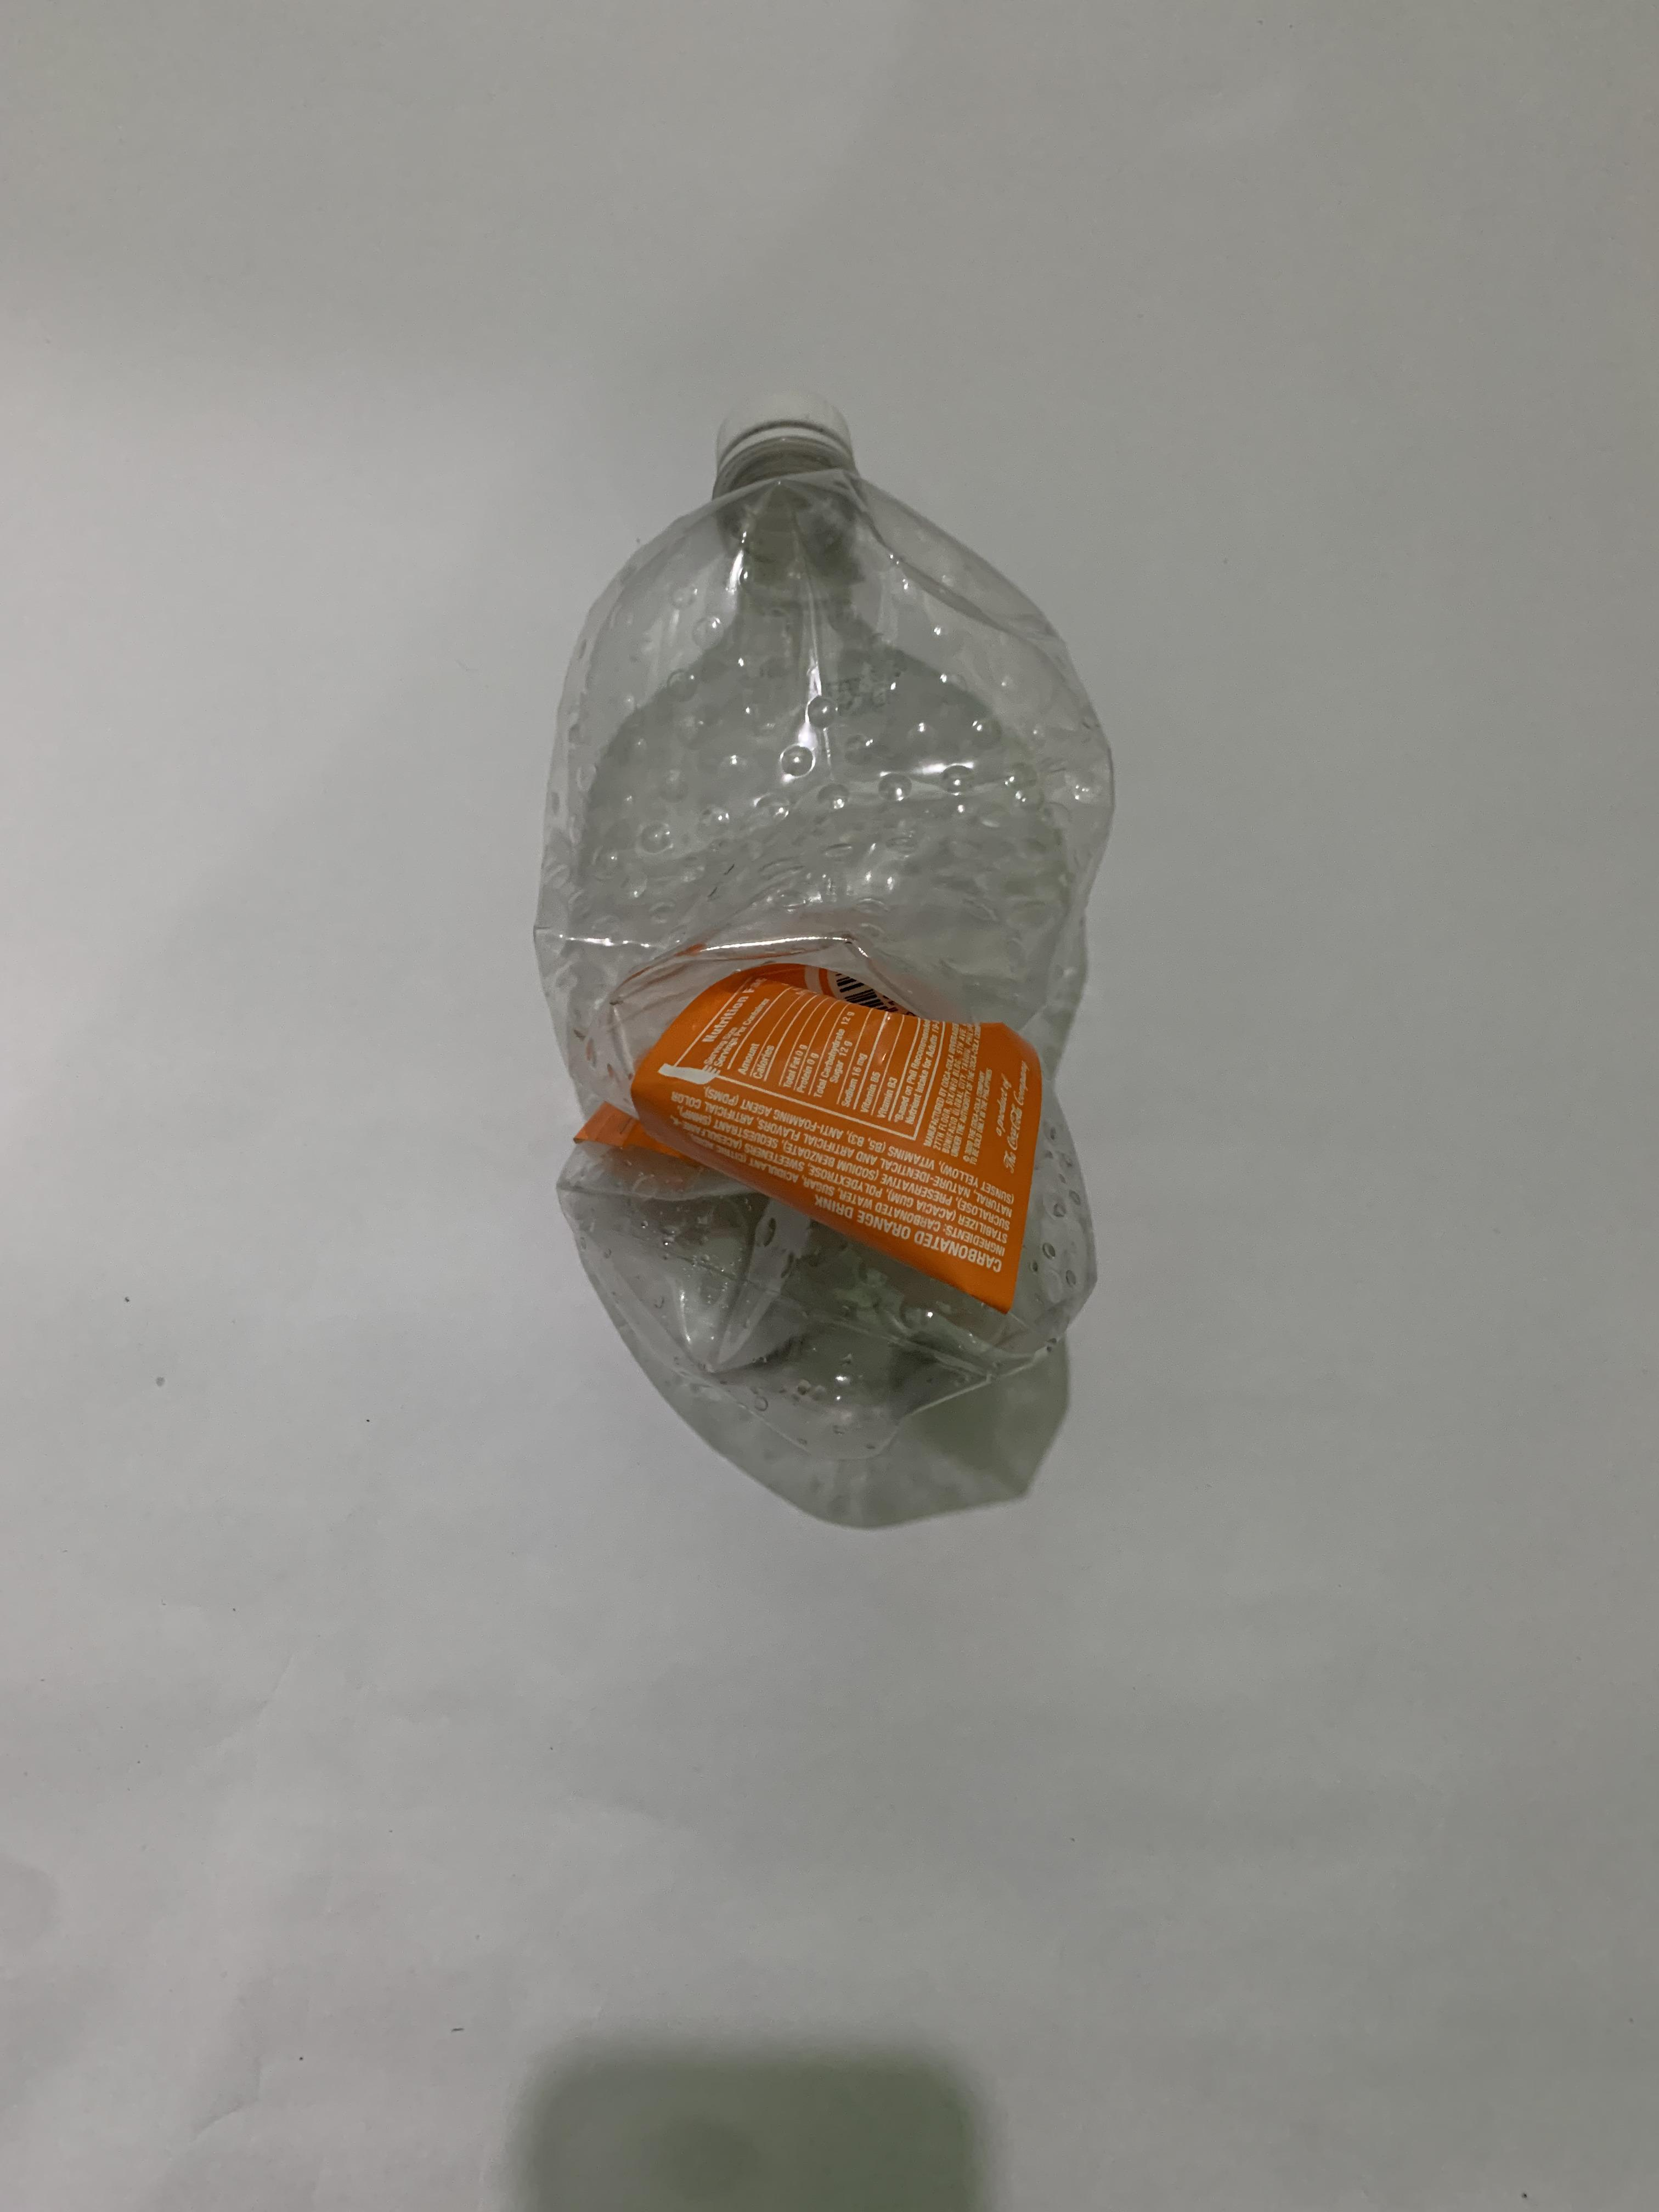bottle: (521, 373, 1131, 1432)
